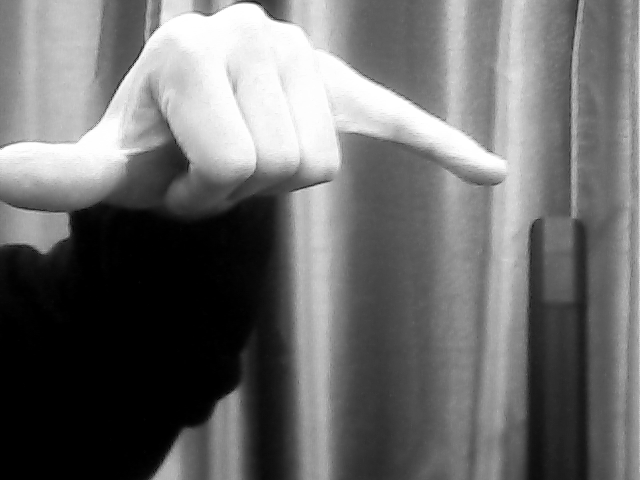aloha: (2, 1, 511, 220)
